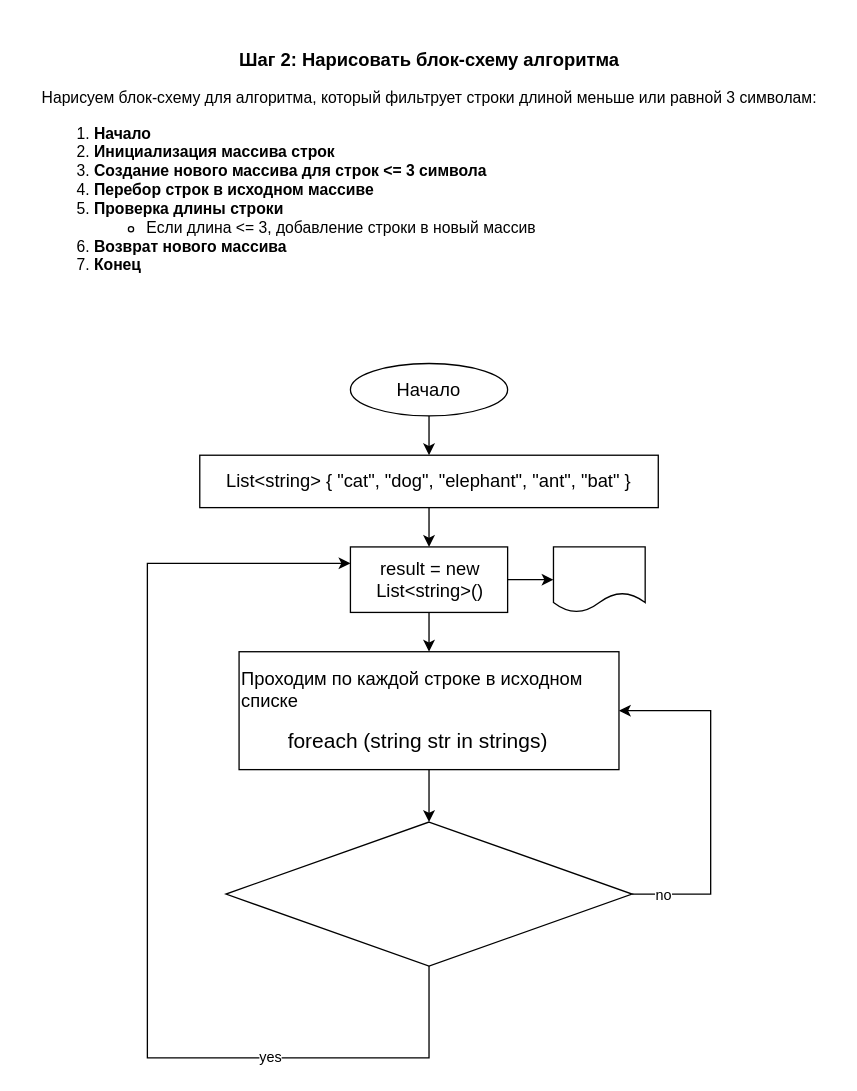
Some shapes in this 857 by 1091 pixel diagram are drawn without their labels. Here are the shapes that lost their labels. From the top down, the centre of each, then its label:
At (x=598, y=579): "print".
At (x=428, y=893): "Если длина <= 3, добавление строки в новый массив".
